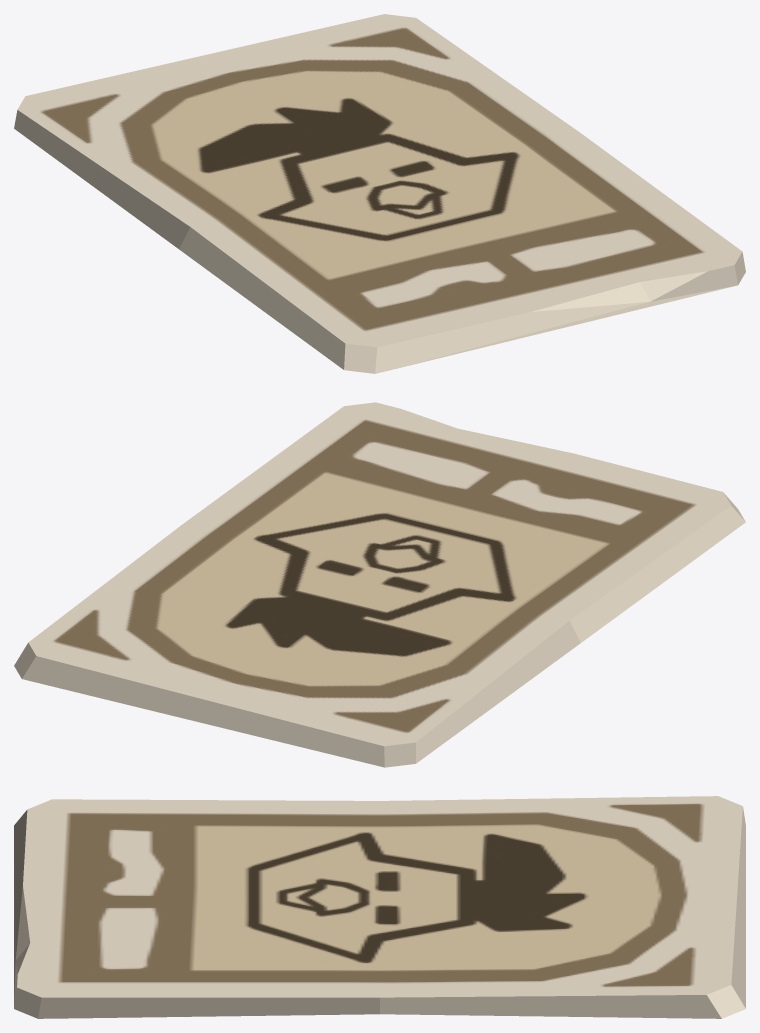
Rendered from SM_Prop_Tarot_Card_21.fbx.
The picture shows the model from 3 angles, top to bottom: view 1: azimuth 30°, elevation 25°; view 2: azimuth 150°, elevation 25°; view 3: azimuth 270°, elevation 25°; orthographic projection. The views are drawn at different scales.
Parts seen in each view (by area): view 1: SM_Prop_Tarot_Card_21; view 2: SM_Prop_Tarot_Card_21; view 3: SM_Prop_Tarot_Card_21.
Part boxes in pixels (<box>): SM_Prop_Tarot_Card_21: <box>14,14,745,373</box>; SM_Prop_Tarot_Card_21: <box>14,402,745,767</box>; SM_Prop_Tarot_Card_21: <box>14,796,745,1018</box>.
Size of the model in its own units: 13.22 by 0.62 by 20.12.
